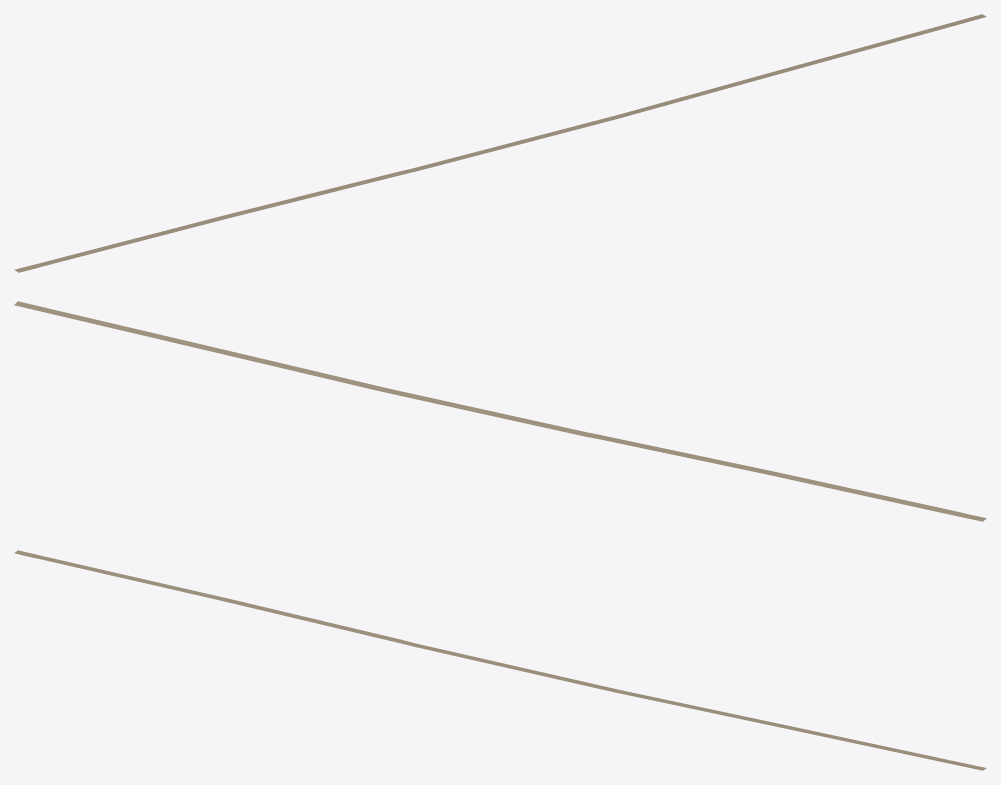
The model's file is farm_-4_3_track.glb.
The picture shows the model from 3 angles, top to bottom: view 1: azimuth 30°, elevation 25°; view 2: azimuth 150°, elevation 25°; view 3: azimuth 330°, elevation 25°; orthographic projection. The views are drawn at different scales.
Parts seen in each view (by area): view 1: geometry_0; view 2: geometry_0; view 3: geometry_0.
Boxes of the visible parts, bbox=[...] form: geometry_0: bbox=[14, 14, 986, 272]; geometry_0: bbox=[14, 301, 986, 521]; geometry_0: bbox=[14, 550, 986, 770].
Bounding box in the file's own units: 410 × 2.04 × 17.98.
